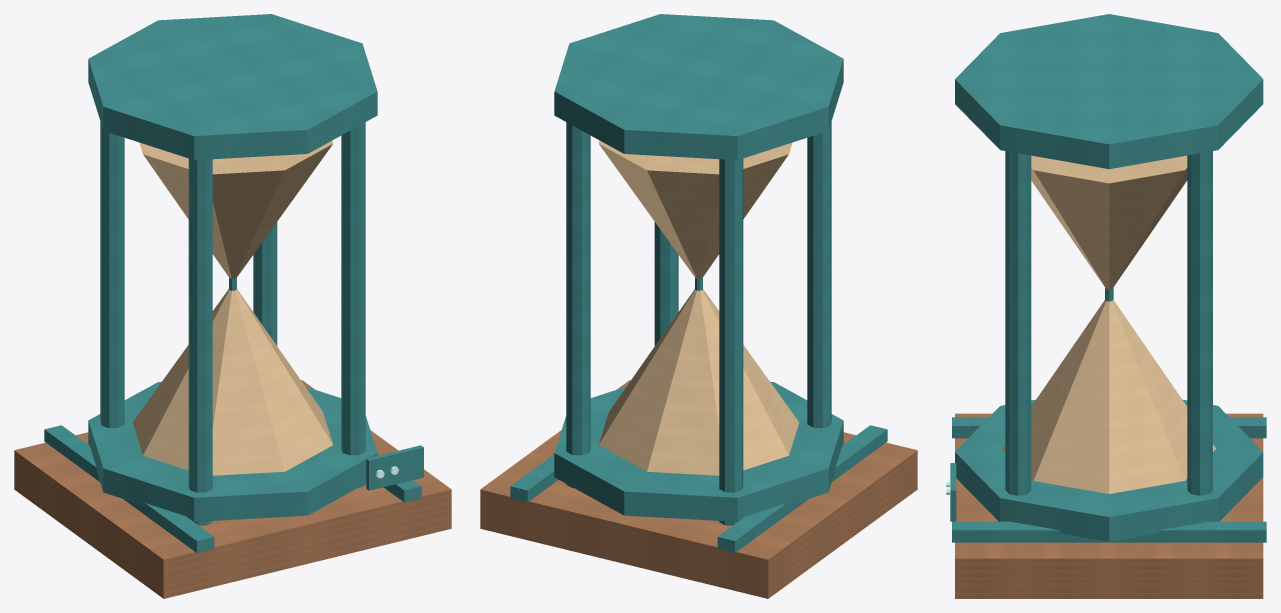
The model's file is atlas100-s091-a01.glb.
3 views of the same model, side by side, from view 1: azimuth 30°, elevation 25°; view 2: azimuth 150°, elevation 25°; view 3: azimuth 270°, elevation 25° (orthographic). The views are drawn at different scales.
Visible parts, largest first — view 1: atlas100-s091-a01:part-004, atlas100-s091-a01:part-000, atlas100-s091-a01:part-013, atlas100-s091-a01:part-003, atlas100-s091-a01:part-014, atlas100-s091-a01:part-007, atlas100-s091-a01:part-005, atlas100-s091-a01:part-009, atlas100-s091-a01:part-001, atlas100-s091-a01:part-011, atlas100-s091-a01:part-016; view 2: atlas100-s091-a01:part-004, atlas100-s091-a01:part-000, atlas100-s091-a01:part-013, atlas100-s091-a01:part-003, atlas100-s091-a01:part-014, atlas100-s091-a01:part-009, atlas100-s091-a01:part-011, atlas100-s091-a01:part-007, atlas100-s091-a01:part-001, atlas100-s091-a01:part-005, atlas100-s091-a01:part-002; view 3: atlas100-s091-a01:part-004, atlas100-s091-a01:part-013, atlas100-s091-a01:part-000, atlas100-s091-a01:part-003, atlas100-s091-a01:part-014, atlas100-s091-a01:part-005, atlas100-s091-a01:part-011, atlas100-s091-a01:part-002, atlas100-s091-a01:part-001.
Part boxes in pixels (x1,y1,x2,y2): atlas100-s091-a01:part-004: (88,14,377,160); atlas100-s091-a01:part-000: (14,380,451,598); atlas100-s091-a01:part-013: (132,289,333,475); atlas100-s091-a01:part-003: (88,381,377,521); atlas100-s091-a01:part-014: (139,141,333,278); atlas100-s091-a01:part-007: (188,158,212,525); atlas100-s091-a01:part-005: (341,122,365,488); atlas100-s091-a01:part-009: (100,122,124,428); atlas100-s091-a01:part-001: (44,425,214,552); atlas100-s091-a01:part-011: (253,222,277,345); atlas100-s091-a01:part-016: (366,445,423,490); atlas100-s091-a01:part-004: (554,14,843,160); atlas100-s091-a01:part-000: (480,380,917,598); atlas100-s091-a01:part-013: (598,289,799,475); atlas100-s091-a01:part-003: (554,381,843,521); atlas100-s091-a01:part-014: (598,141,792,278); atlas100-s091-a01:part-009: (719,158,743,525); atlas100-s091-a01:part-011: (566,122,590,488); atlas100-s091-a01:part-007: (807,122,831,428); atlas100-s091-a01:part-001: (717,425,887,552); atlas100-s091-a01:part-005: (654,222,678,345); atlas100-s091-a01:part-002: (510,454,558,502); atlas100-s091-a01:part-004: (955,14,1263,169); atlas100-s091-a01:part-013: (1002,300,1215,493); atlas100-s091-a01:part-000: (955,413,1263,598); atlas100-s091-a01:part-003: (955,399,1263,541); atlas100-s091-a01:part-014: (1031,155,1187,288); atlas100-s091-a01:part-005: (1005,151,1031,495); atlas100-s091-a01:part-011: (1187,151,1212,495); atlas100-s091-a01:part-002: (952,521,1266,542); atlas100-s091-a01:part-001: (952,417,1266,438).
Bounding box in the file's own units: 2 × 2.88 × 1.87.
4 materials, 4 textured.
